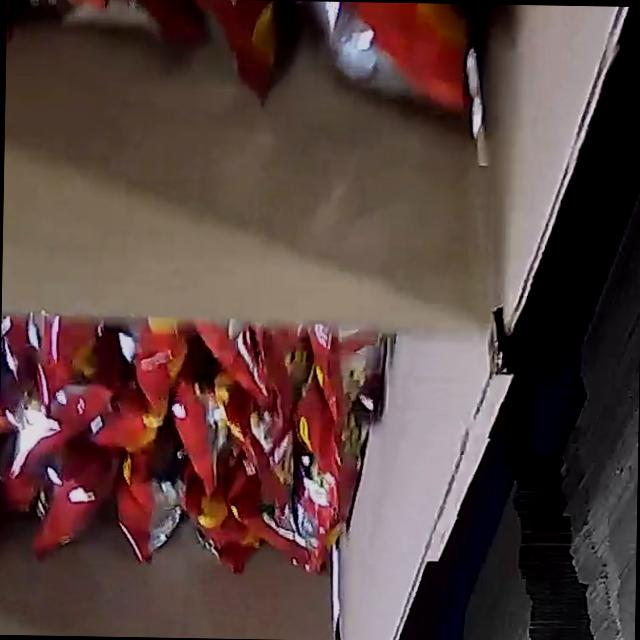masala: (0, 311, 386, 581), (3, 0, 553, 123)
